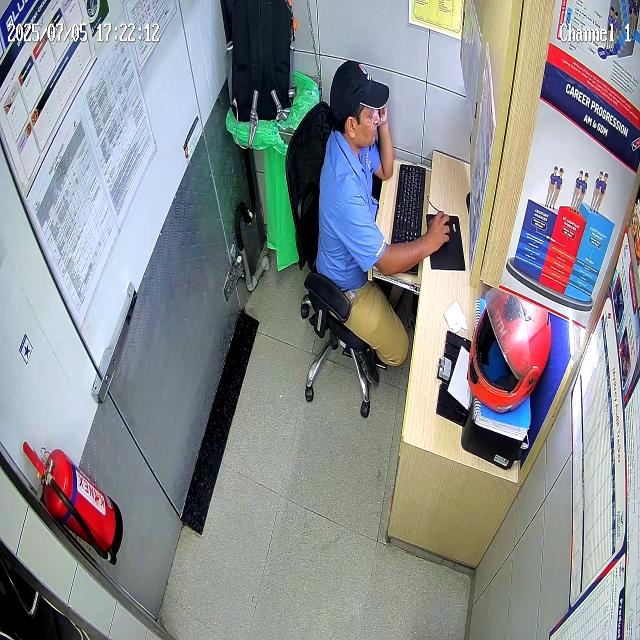helmet: (467, 290, 552, 413)
no_helmet: (328, 60, 389, 151)
